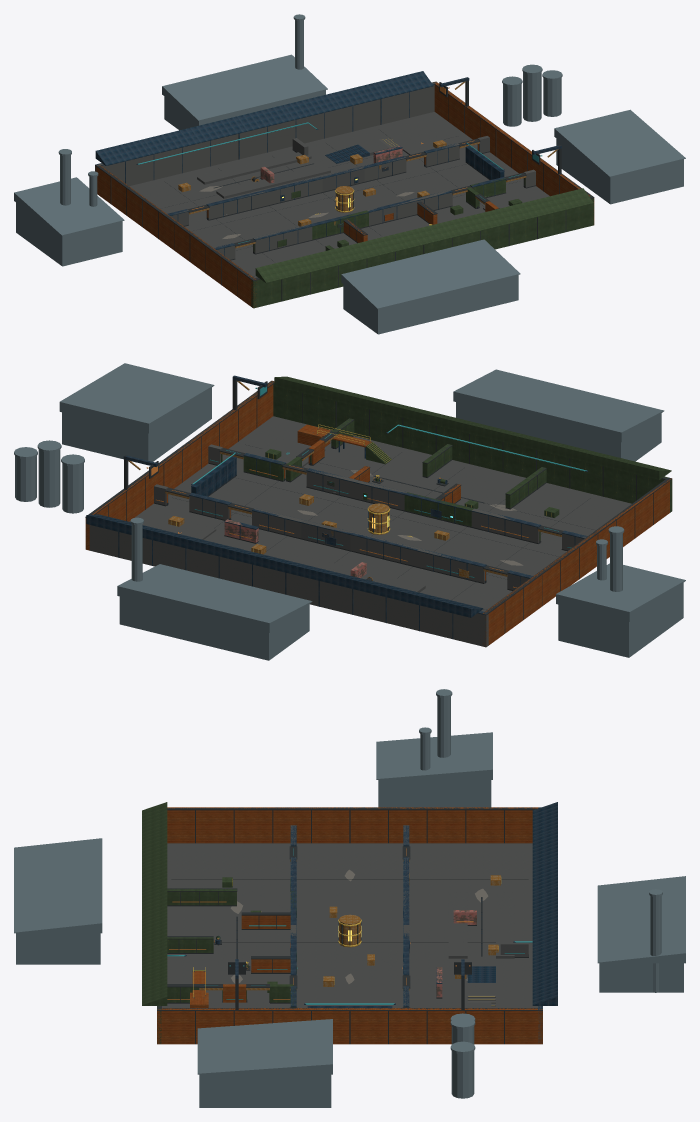
Rendered from foundry_reforged.glb.
The picture shows the model from 3 angles, top to bottom: view 1: azimuth 30°, elevation 25°; view 2: azimuth 150°, elevation 25°; view 3: azimuth 270°, elevation 25°; orthographic projection. The views are drawn at different scales.
Visible parts, largest first — view 1: GEO-reforged-floor, GEO-reforged-boundary-north, GEO-reforged-skyline-south-hall-roof, GEO-reforged-boundary-south, GEO-reforged-skyline-north-hall-roof, GEO-reforged-skyline-east-warehouse-roof, GEO-reforged-boundary-west, GEO-reforged-skyline-south-hall-hall, GEO-reforged-boundary-east, GEO-reforged-skyline-east-warehouse-hall, GEO-reforged-skyline-west-plant-roof, GEO-reforged-skyline-west-plant-hall (+34 smaller); view 2: GEO-reforged-floor, GEO-reforged-boundary-south, GEO-reforged-boundary-north, GEO-reforged-skyline-south-hall-roof, GEO-reforged-skyline-north-hall-roof, GEO-reforged-skyline-east-warehouse-roof, GEO-reforged-boundary-west, GEO-reforged-skyline-north-hall-hall, GEO-reforged-boundary-east, GEO-reforged-skyline-east-warehouse-hall, GEO-reforged-skyline-west-plant-hall, GEO-reforged-skyline-west-plant-roof (+43 smaller); view 3: GEO-reforged-floor, GEO-reforged-boundary-west, GEO-reforged-boundary-east, GEO-reforged-skyline-south-hall-roof, GEO-reforged-skyline-east-warehouse-roof, GEO-reforged-skyline-north-hall-roof, GEO-reforged-skyline-east-warehouse-hall, GEO-reforged-skyline-west-plant-roof, GEO-reforged-skyline-west-plant-hall, GEO-reforged-skyline-south-hall-hall, GEO-reforged-skyline-north-hall-hall, GEO-reforged-boundary-module-west (+23 smaller).
Part boxes in pixels (left/top/right/bottom): GEO-reforged-floor: left=129, top=112, right=549, bottom=277; GEO-reforged-boundary-north: left=95, top=81, right=436, bottom=186; GEO-reforged-skyline-south-hall-roof: left=341, top=239, right=520, bottom=309; GEO-reforged-boundary-south: left=251, top=196, right=594, bottom=308; GEO-reforged-skyline-north-hall-roof: left=162, top=54, right=327, bottom=120; GEO-reforged-skyline-east-warehouse-roof: left=554, top=109, right=685, bottom=177; GEO-reforged-boundary-west: left=95, top=165, right=256, bottom=307; GEO-reforged-skyline-south-hall-hall: left=343, top=275, right=518, bottom=334; GEO-reforged-boundary-east: left=434, top=82, right=594, bottom=224; GEO-reforged-skyline-east-warehouse-hall: left=556, top=138, right=683, bottom=204; GEO-reforged-skyline-west-plant-roof: left=14, top=177, right=124, bottom=235; GEO-reforged-skyline-west-plant-hall: left=16, top=202, right=122, bottom=266; GEO-reforged-floor: left=129, top=416, right=631, bottom=611; GEO-reforged-boundary-south: left=273, top=384, right=672, bottom=512; GEO-reforged-boundary-north: left=85, top=525, right=488, bottom=647; GEO-reforged-skyline-south-hall-roof: left=453, top=369, right=664, bottom=442; GEO-reforged-skyline-north-hall-roof: left=117, top=564, right=312, bottom=632; GEO-reforged-skyline-east-warehouse-roof: left=59, top=363, right=214, bottom=433; GEO-reforged-boundary-west: left=482, top=478, right=671, bottom=646; GEO-reforged-skyline-north-hall-hall: left=119, top=596, right=309, bottom=660; GEO-reforged-boundary-east: left=85, top=381, right=274, bottom=550; GEO-reforged-skyline-east-warehouse-hall: left=62, top=388, right=211, bottom=465; GEO-reforged-skyline-west-plant-hall: left=558, top=583, right=683, bottom=657; GEO-reforged-skyline-west-plant-roof: left=556, top=563, right=685, bottom=621; GEO-reforged-floor: left=162, top=843, right=537, bottom=1007; GEO-reforged-boundary-west: left=167, top=807, right=538, bottom=843; GEO-reforged-boundary-east: left=157, top=1008, right=542, bottom=1044; GEO-reforged-skyline-south-hall-roof: left=14, top=838, right=102, bottom=933; GEO-reforged-skyline-east-warehouse-roof: left=197, top=1019, right=332, bottom=1074; GEO-reforged-skyline-north-hall-roof: left=597, top=876, right=685, bottom=963; GEO-reforged-skyline-east-warehouse-hall: left=199, top=1074, right=331, bottom=1107; GEO-reforged-skyline-west-plant-roof: left=376, top=732, right=492, bottom=779; GEO-reforged-skyline-west-plant-hall: left=378, top=780, right=491, bottom=807; GEO-reforged-skyline-south-hall-hall: left=16, top=933, right=100, bottom=964; GEO-reforged-skyline-north-hall-hall: left=599, top=963, right=683, bottom=992; GEO-reforged-boundary-module-west: left=167, top=807, right=536, bottom=843.
Bounding box in the file's own units: 165 × 25.34 × 143.
Materials: 18 (8 with a texture image).
